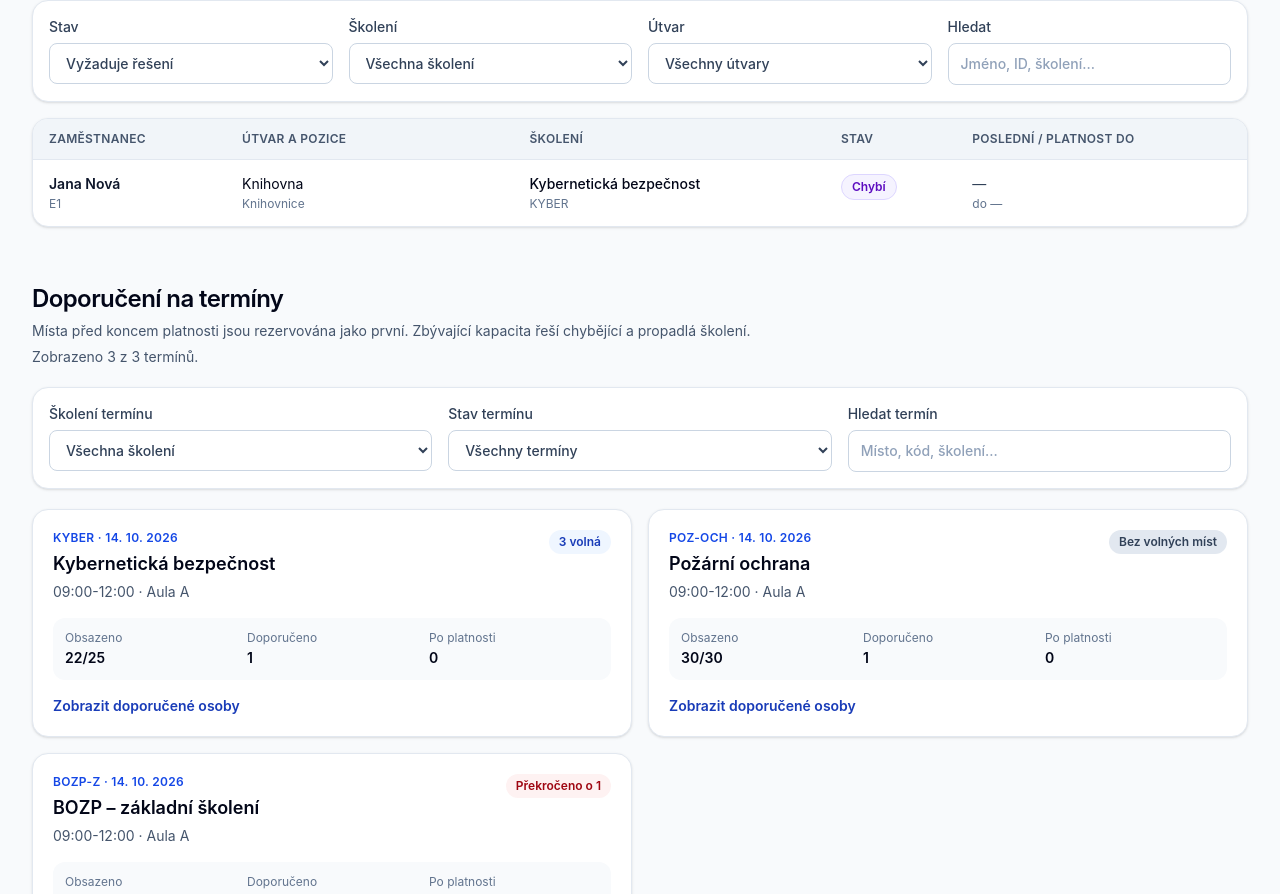
Test: Dashboard › includes over-capacity sessions among sessions without free seats
The image size is (1280, 894).
(page scrolled)
Select "Bez volných míst" in the dropdown labelled "Stav termínu" at (640, 450), box x1=448 y1=430 x2=832 y2=471
(page scrolled)
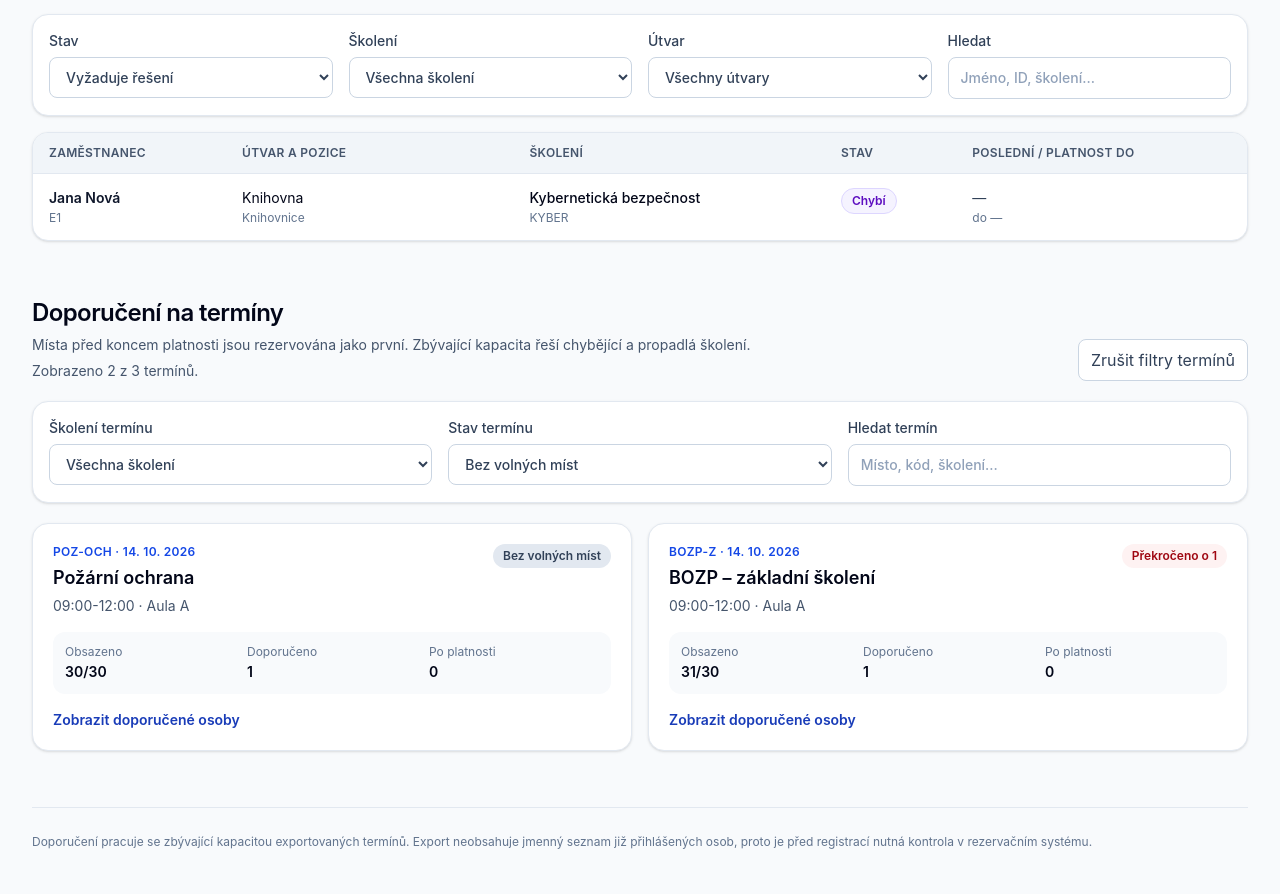
Expected: the text "30/30" is shown, x1=65 y1=663 x2=107 y2=680
Expected: the text "22/25" is gone
Select "Překročená kapacita" in the dropdown labelled "Stav termínu" at (640, 464), box x1=448 y1=444 x2=832 y2=485
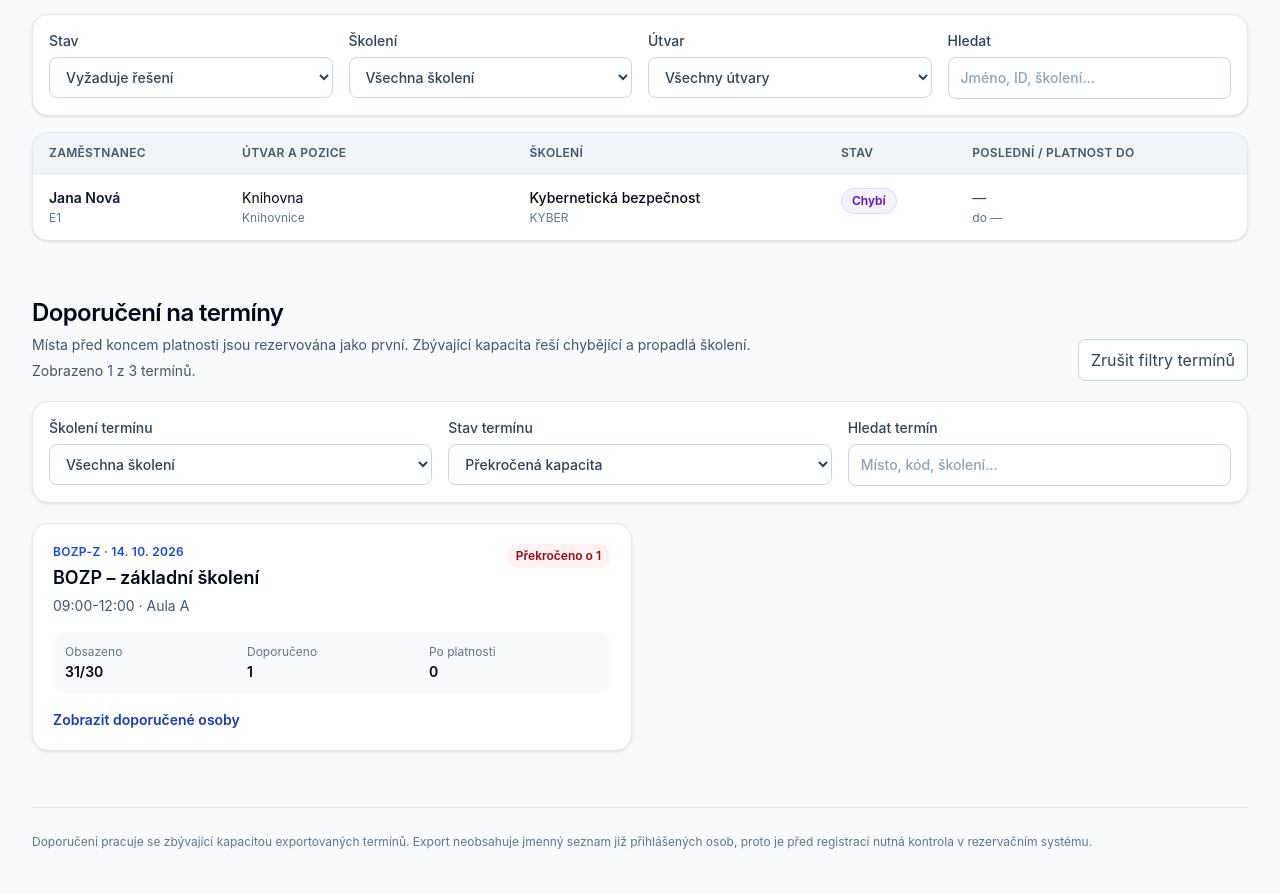
Expected: the text "31/30" is shown, x1=65 y1=663 x2=103 y2=680
Expected: the text "30/30" is gone
